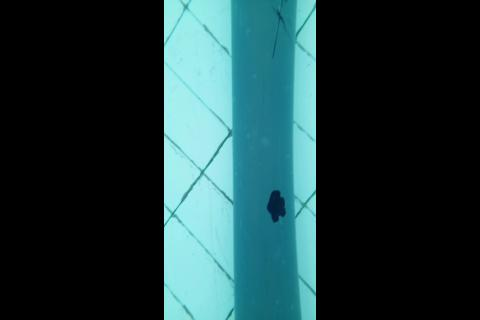kebocoran: (266, 188, 286, 224)
keretakan: (270, 0, 288, 60)
